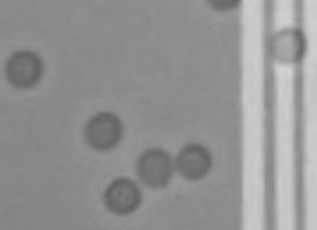cell: (79, 106, 127, 156), (264, 20, 312, 69), (172, 135, 217, 186), (131, 143, 178, 191), (97, 172, 147, 217), (2, 45, 48, 92)
